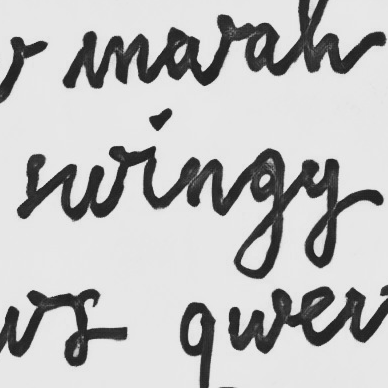g: (232, 146, 289, 283)
i: (139, 105, 173, 212)
n: (179, 152, 228, 219)
s: (14, 151, 49, 221)
w: (57, 144, 131, 224)
y: (298, 155, 341, 270)
